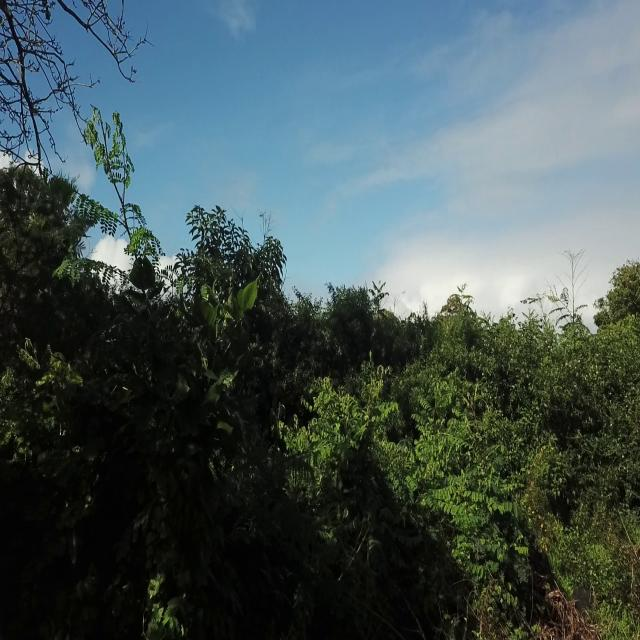Mysore-Thorn-Weed: (47, 96, 170, 324), (273, 368, 392, 512), (423, 437, 528, 578), (408, 391, 468, 499), (542, 281, 598, 368), (438, 278, 477, 370)
